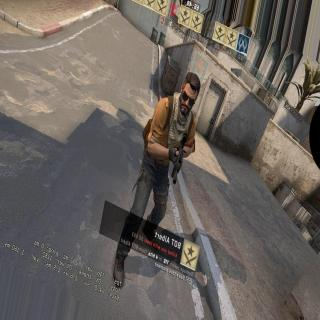T-Body: (110, 69, 204, 287)
T-Head: (179, 70, 201, 120)
